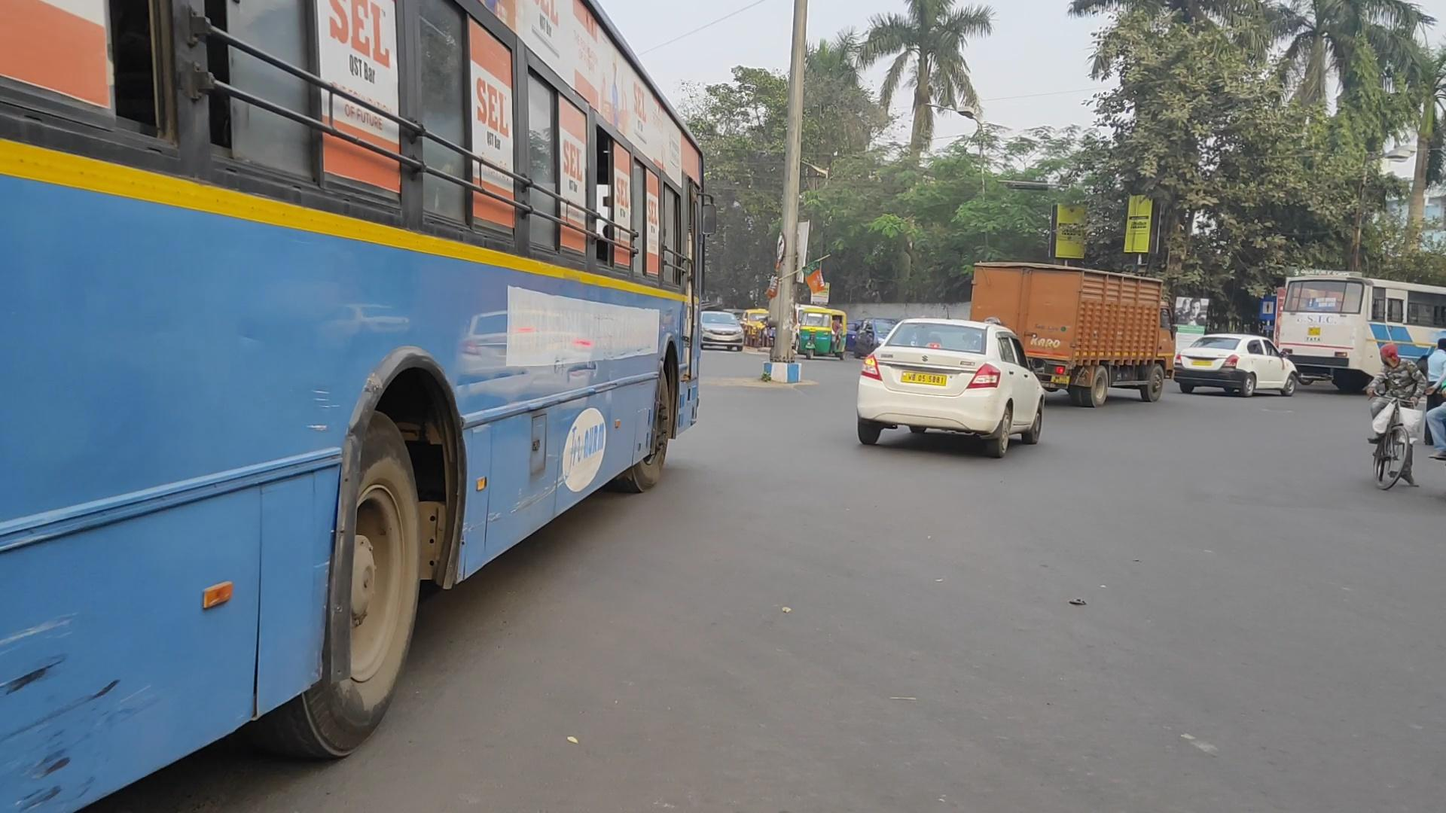Auto: (800, 307, 847, 361)
Bus: (1, 2, 716, 813), (1278, 274, 1446, 394)
bike: (1365, 343, 1427, 491)
car: (856, 318, 1045, 459), (1174, 333, 1297, 397), (700, 310, 745, 353)
truck: (968, 260, 1177, 408)
